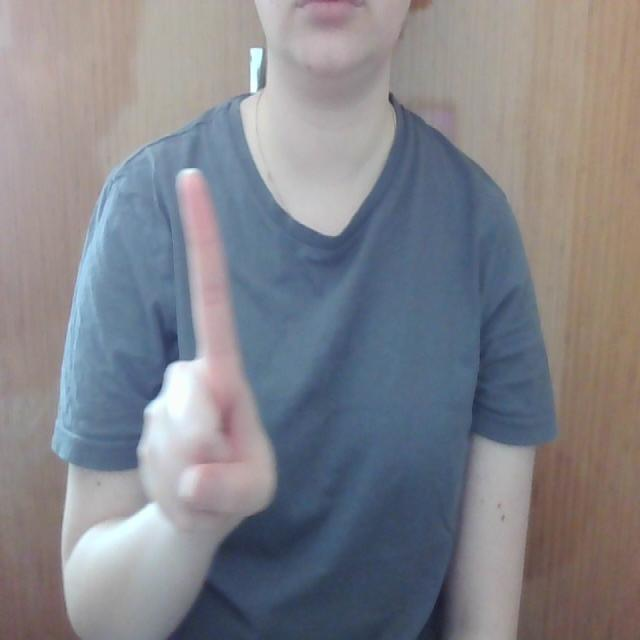Hayir: (125, 149, 281, 552)
